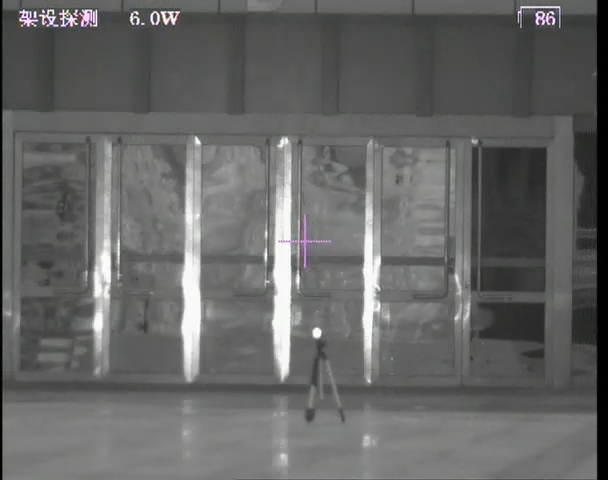my: (311, 326, 323, 340)
